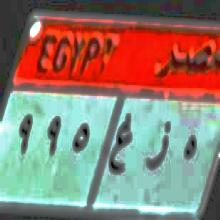5: (72, 115, 91, 164)
9: (44, 113, 64, 168), (17, 113, 36, 164)
ghayn: (110, 111, 134, 186)
haa: (179, 126, 204, 169)
zay: (144, 115, 174, 176)
